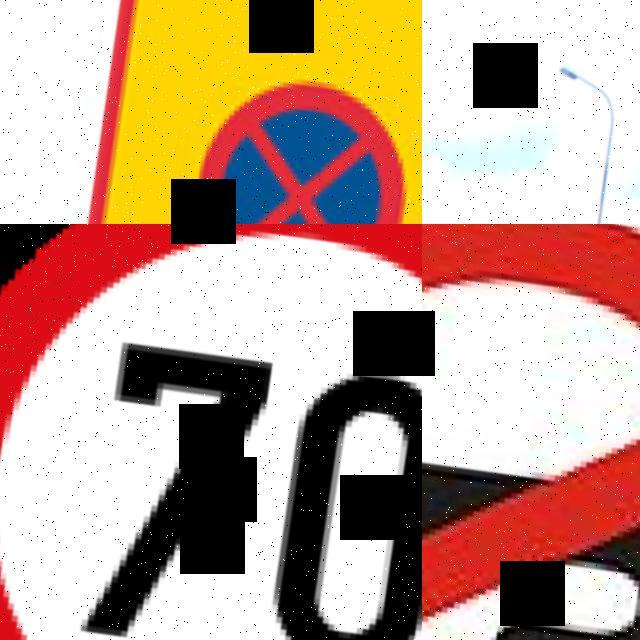177: (54, 0, 422, 224)
Horn prohibited: (422, 224, 640, 640)
speed limit-70: (0, 224, 422, 640)
